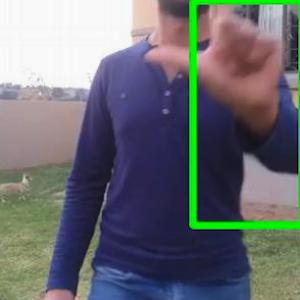land_hand: (140, 0, 290, 130)
